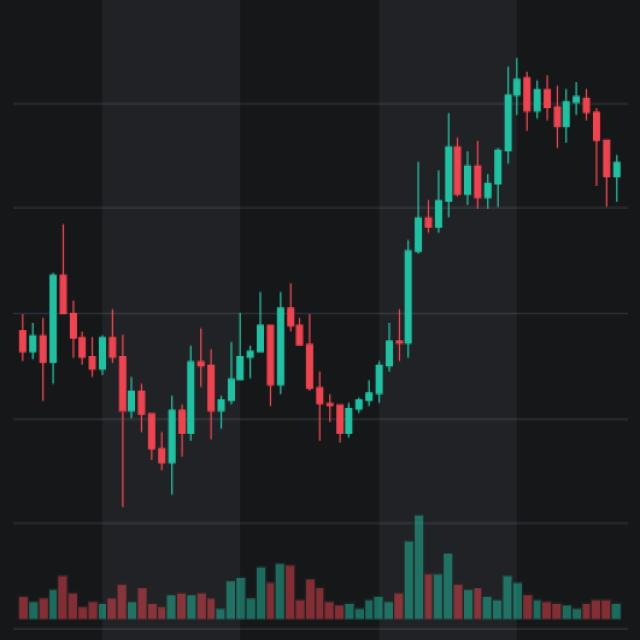Channel-up: (310, 0, 640, 468)
